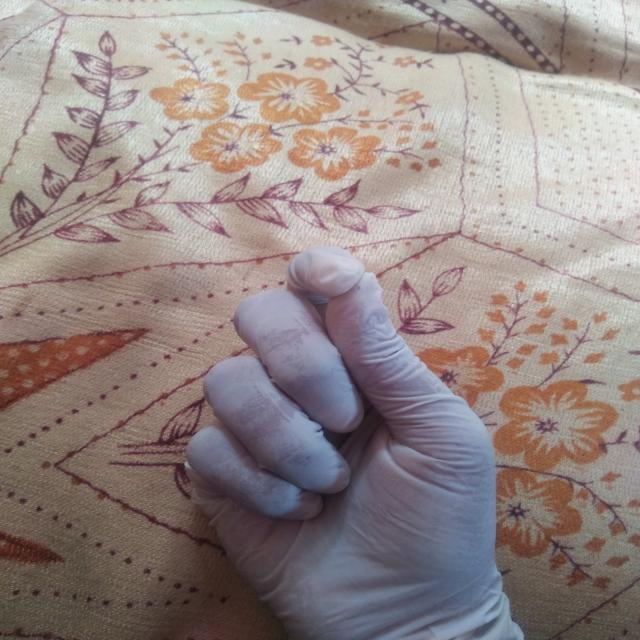glove_hand: (165, 245, 530, 640)
